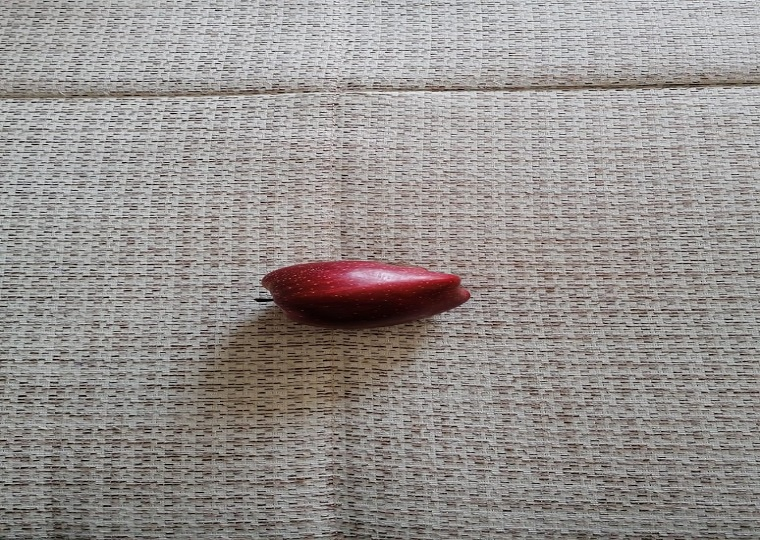elma: (254, 259, 474, 331)
